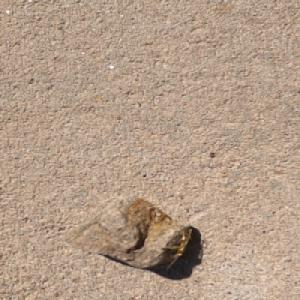Rock: (60, 195, 193, 270)
